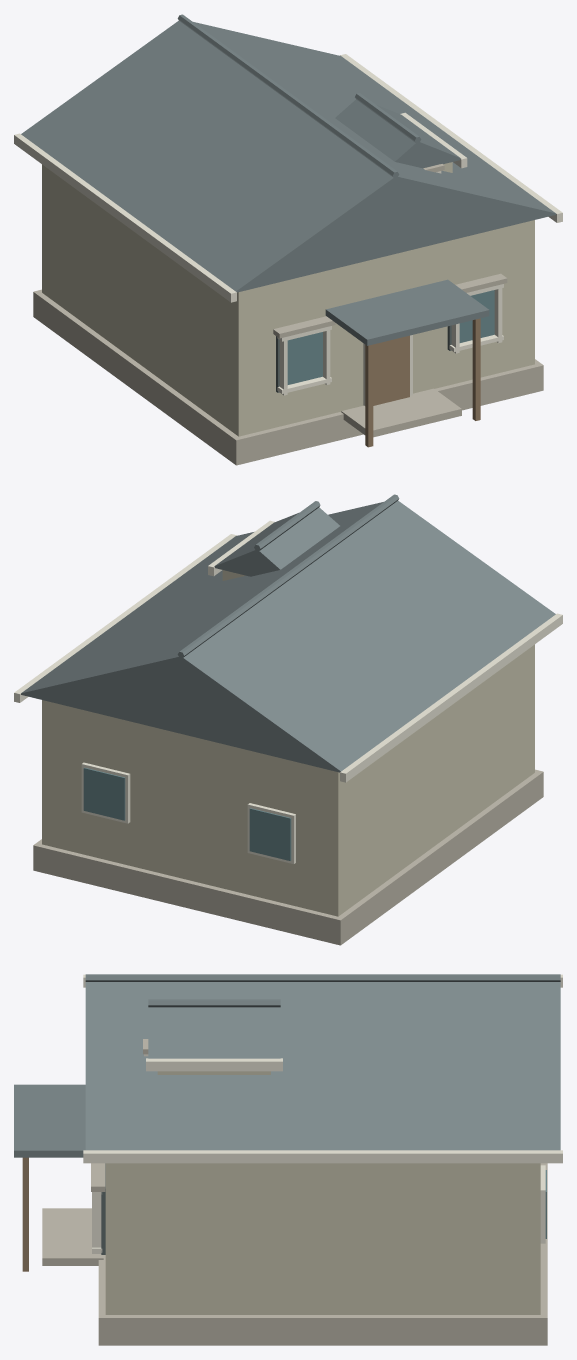
3 views of the same model, one above another, from view 1: azimuth 30°, elevation 25°; view 2: azimuth 150°, elevation 25°; view 3: azimuth 270°, elevation 25° (orthographic). The views are drawn at different scales.
Size of the model in its own units: 8.96 by 6.76 by 11.61.
